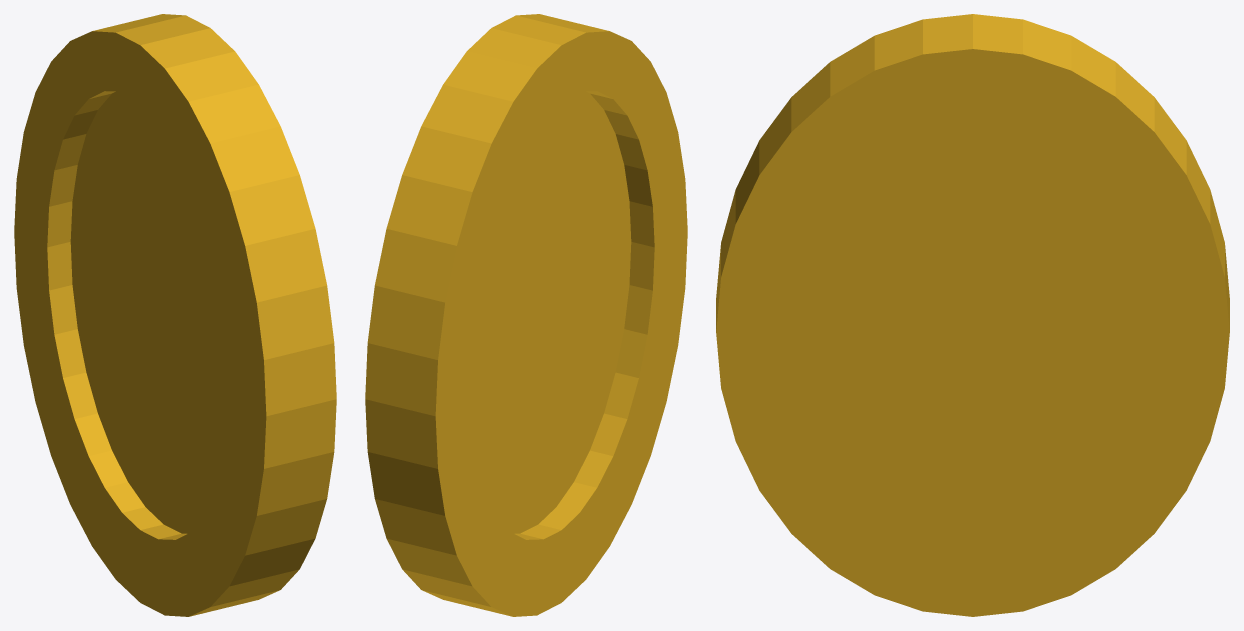
The model's file is Coin.fbx.
3 views of the same model, side by side, from view 1: azimuth 30°, elevation 25°; view 2: azimuth 150°, elevation 25°; view 3: azimuth 270°, elevation 25° (orthographic).
Visible parts, largest first — view 1: 円柱; view 2: 円柱; view 3: 円柱.
Boxes of the visible parts, x1,y1,x2,y2 form: 円柱: [14, 14, 336, 616]; 円柱: [365, 14, 687, 616]; 円柱: [716, 14, 1229, 616].
Bounding box in the file's own units: 0.1804 × 1.37 × 1.12.
